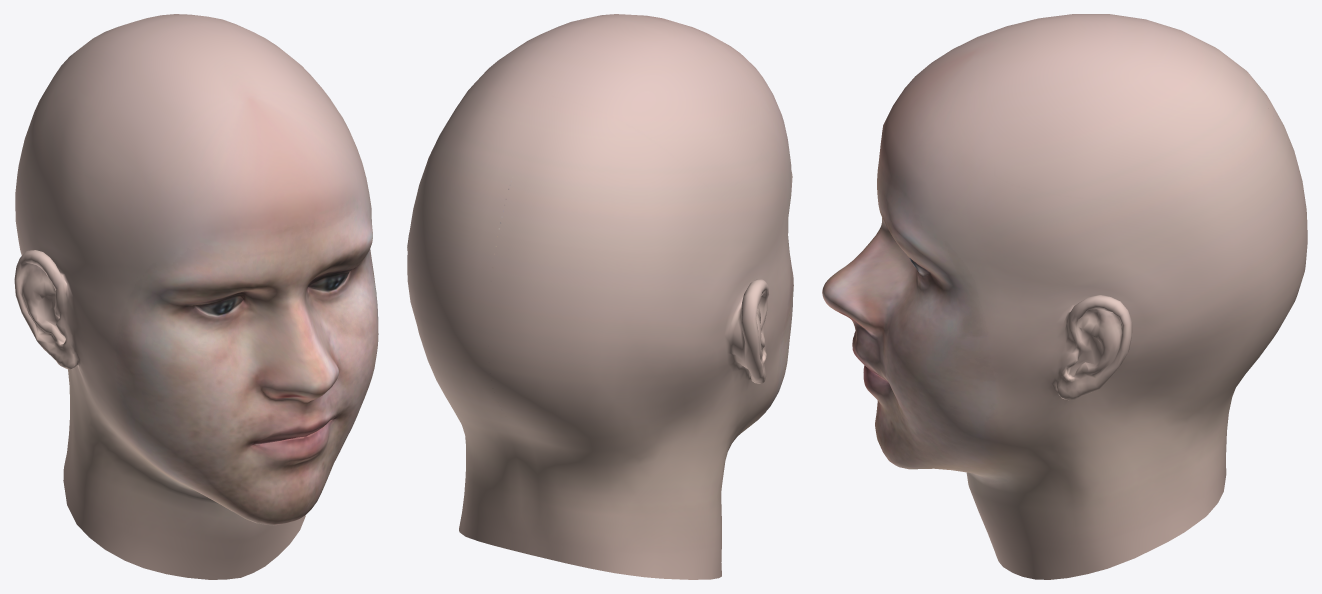
The model's file is Male_2.fbx.
The picture shows the model from 3 angles, left to right: view 1: azimuth 30°, elevation 25°; view 2: azimuth 150°, elevation 25°; view 3: azimuth 270°, elevation 25°; orthographic projection. The views are drawn at different scales.
Visible parts, largest first — view 1: HeadHires; view 2: HeadHires; view 3: HeadHires.
Boxes of the visible parts, x1=… form: HeadHires: x1=14, y1=14, x2=378, y2=579; HeadHires: x1=407, y1=14, x2=793, y2=579; HeadHires: x1=822, y1=14, x2=1307, y2=579.
Size of the model in its own units: 189 by 284 by 237.
